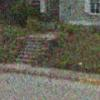stairs: (9, 31, 55, 69)
